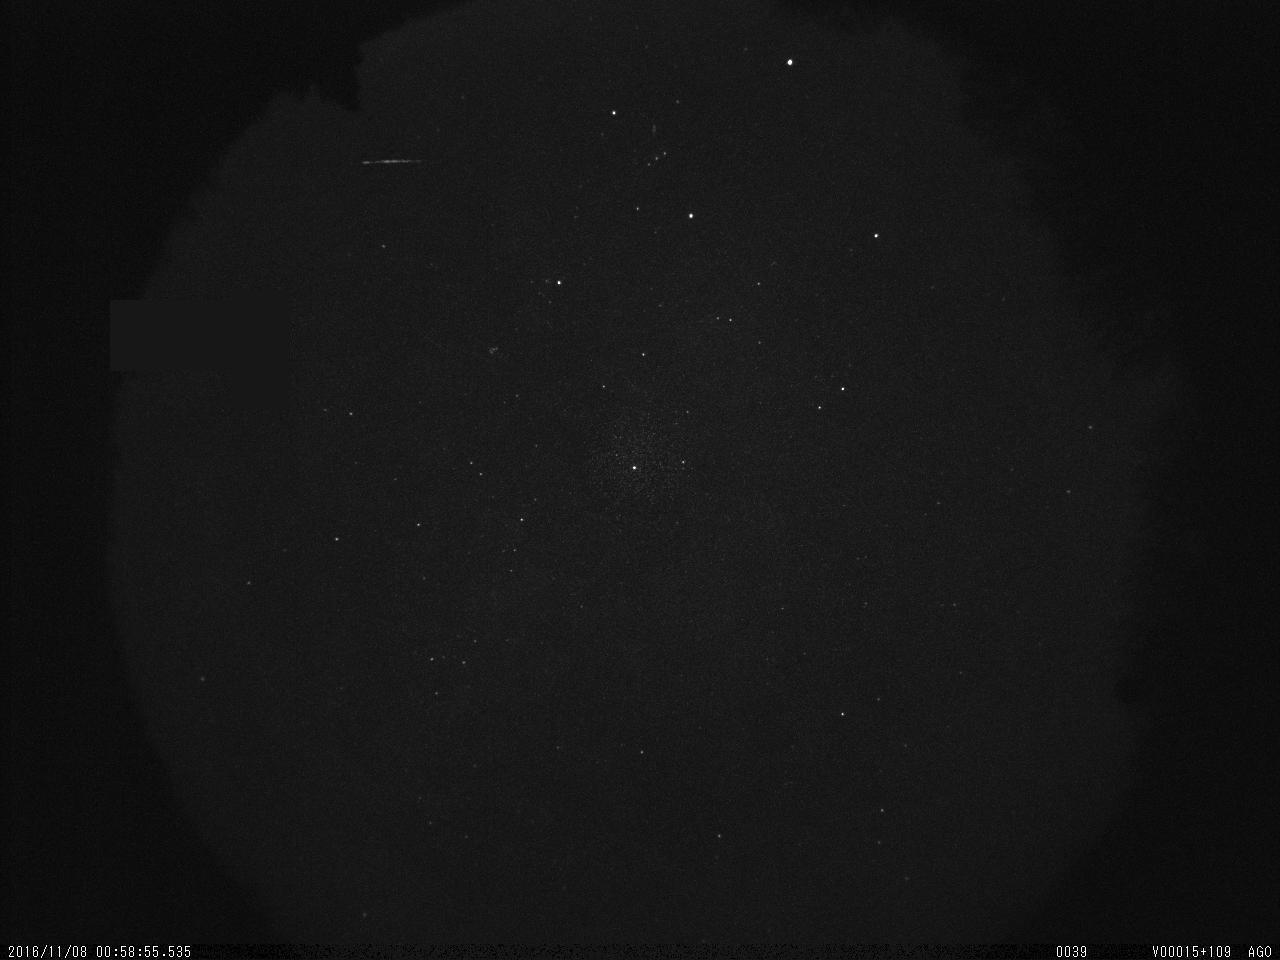Meteor: (360, 154, 425, 167)
